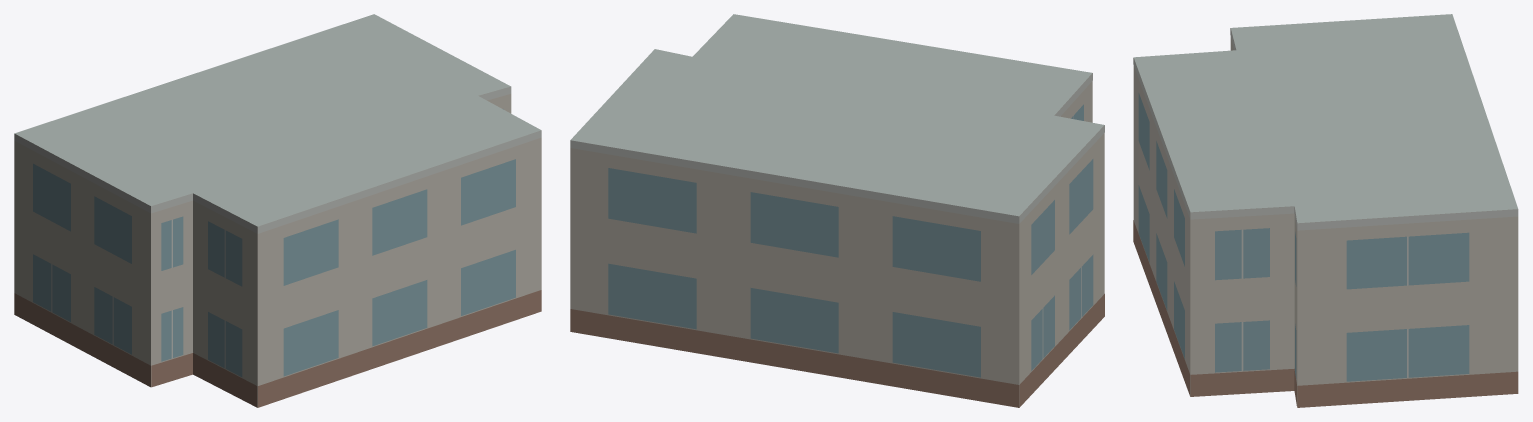
Rendered from survey-upis-32666383.glb.
3 views of the same model, side by side, from view 1: azimuth 30°, elevation 25°; view 2: azimuth 150°, elevation 25°; view 3: azimuth 270°, elevation 25° (orthographic). The views are drawn at different scales.
Parts seen in each view (by area): view 1: survey-upis-32666383.tmp; view 2: survey-upis-32666383.tmp; view 3: survey-upis-32666383.tmp.
Boxes of the visible parts, x1,y1,x2,y2 form: survey-upis-32666383.tmp: (14,14,541,407); survey-upis-32666383.tmp: (570,14,1104,407); survey-upis-32666383.tmp: (1133,14,1518,407).
Size of the model in its own units: 14.84 by 6.1 by 11.53.
